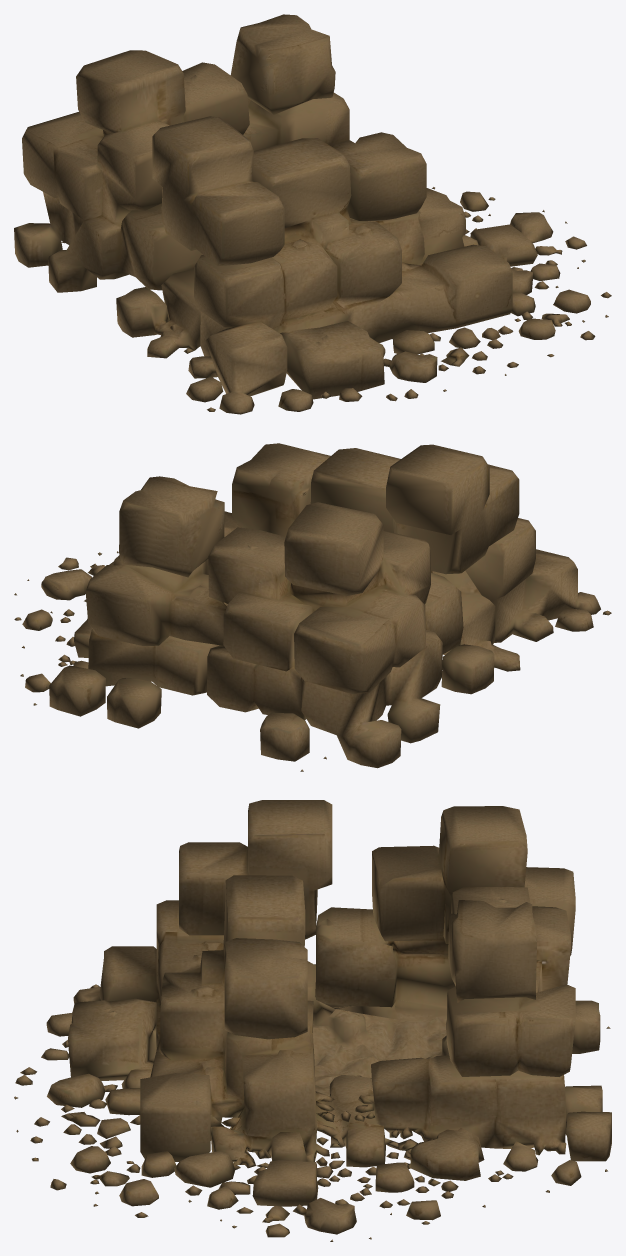
The model's file is rocks.glb.
3 renders of one model, top to bottom at view 1: azimuth 30°, elevation 25°; view 2: azimuth 150°, elevation 25°; view 3: azimuth 270°, elevation 25°, orthographic. The views are drawn at different scales.
Visible parts, largest first — view 1: tripo_node_2471b2d8-66a4-412e-bbf8-3feaa1a587ff; view 2: tripo_node_2471b2d8-66a4-412e-bbf8-3feaa1a587ff; view 3: tripo_node_2471b2d8-66a4-412e-bbf8-3feaa1a587ff.
Part boxes in pixels (x1=…): tripo_node_2471b2d8-66a4-412e-bbf8-3feaa1a587ff: x1=14, y1=14, x2=611, y2=414; tripo_node_2471b2d8-66a4-412e-bbf8-3feaa1a587ff: x1=14, y1=443, x2=611, y2=771; tripo_node_2471b2d8-66a4-412e-bbf8-3feaa1a587ff: x1=14, y1=800, x2=611, y2=1241.
Bounding box in the file's own units: 0.998 × 0.416 × 0.998.
Materials: 1 (1 with a texture image).
